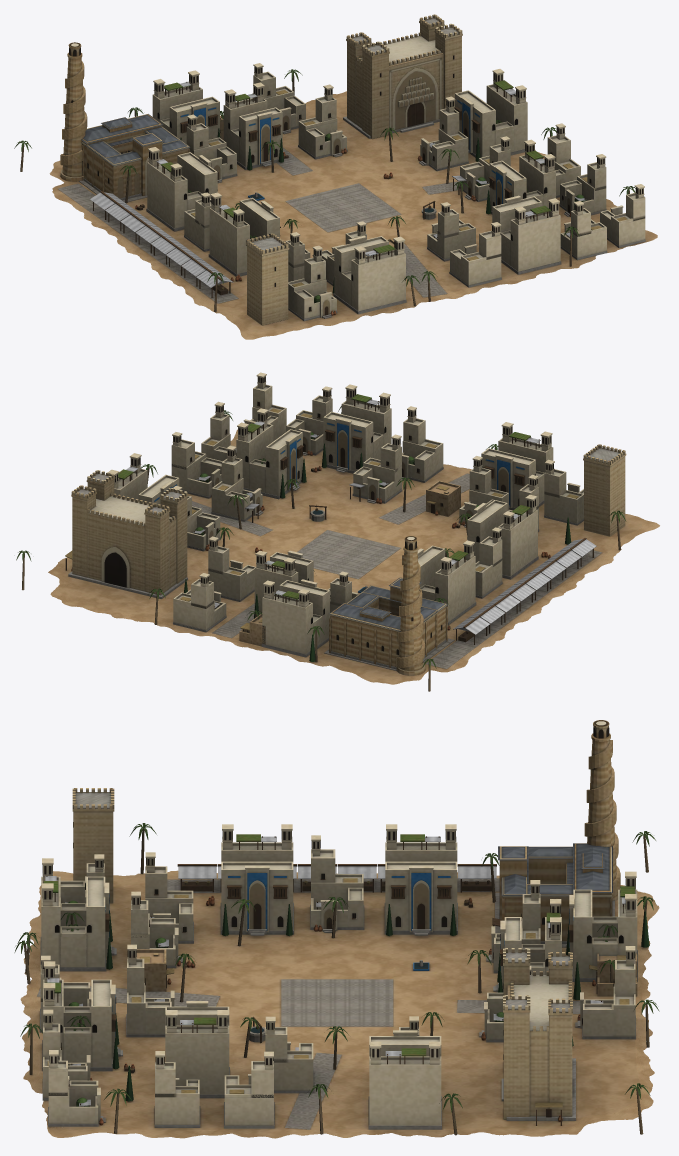
File: kingdoms-town-big-b-levant.glb
The picture shows the model from 3 angles, top to bottom: view 1: azimuth 30°, elevation 25°; view 2: azimuth 150°, elevation 25°; view 3: azimuth 270°, elevation 25°; orthographic projection. The views are drawn at different scales.
Visible parts, largest first — view 1: LOD0; view 2: LOD0; view 3: LOD0.
Part boxes in pixels (box(x1,y1,x2,y2)): LOD0: box(14, 14, 657, 339); LOD0: box(16, 372, 659, 691); LOD0: box(14, 720, 659, 1138).
Size of what is drawn, in the model's own units: 8.12 by 2.4 by 8.14.
3 materials, 3 textured.
